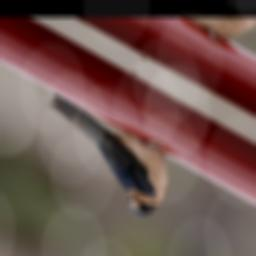Swallow: (18, 80, 190, 226)
